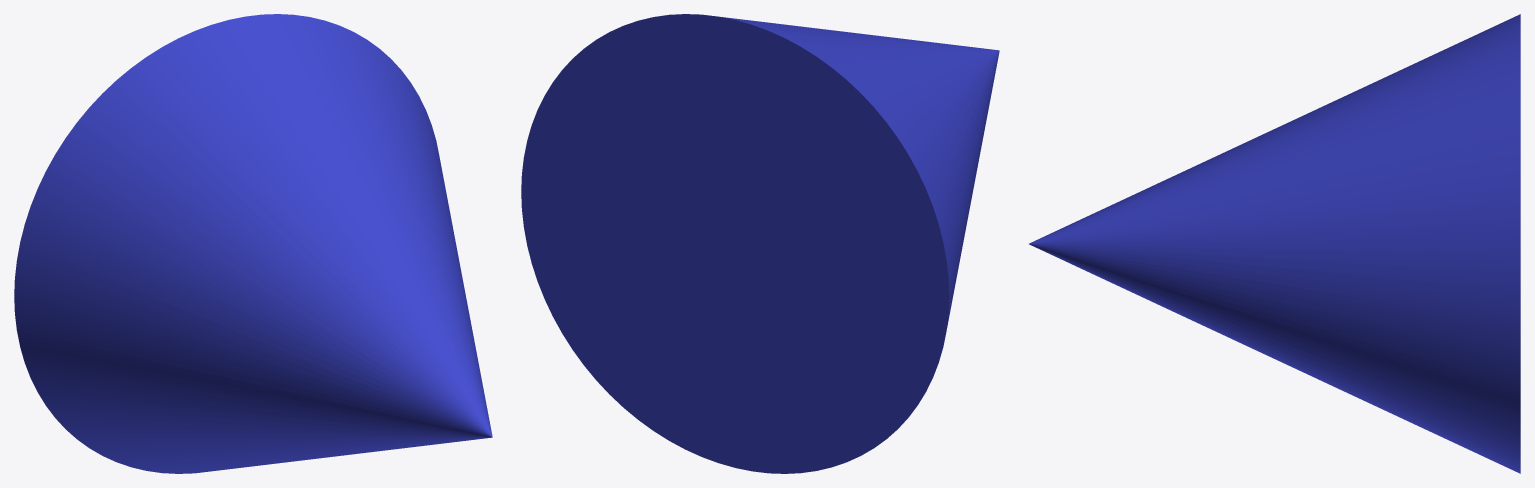
3 views of the same model, side by side, from view 1: azimuth 30°, elevation 25°; view 2: azimuth 150°, elevation 25°; view 3: azimuth 270°, elevation 25° (orthographic). The views are drawn at different scales.
Parts seen in each view (by area): view 1: root; view 2: root; view 3: root.
Boxes of the visible parts, x1,y1,x2,y2 form: root: [14, 14, 492, 473]; root: [521, 14, 999, 473]; root: [1029, 14, 1520, 473].
Bounding box in the file's own units: 0.2642 × 0.2642 × 0.2828.
